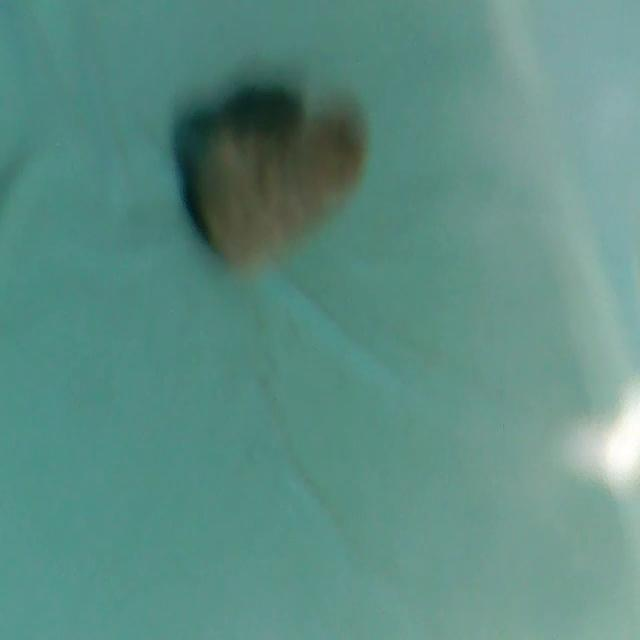plastic bottle: (177, 88, 371, 281)
